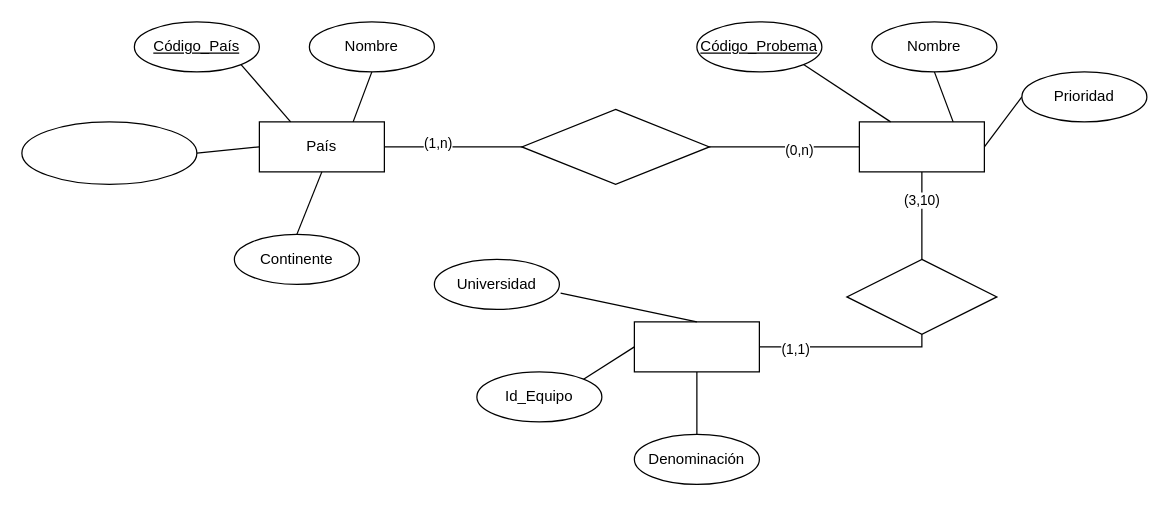
Some shapes in this 1169 by 506 pixel diagram are drawn without their labels. Here are the shapes that lost their labels. From the top down, the box of each, then its label:
(21, 121, 197, 184): Cantidad_de_Habitantes
(521, 108, 709, 184): puede_identificarse
(858, 121, 984, 172): Problema
(846, 258, 997, 334): investigar
(633, 321, 759, 372): Equipo
